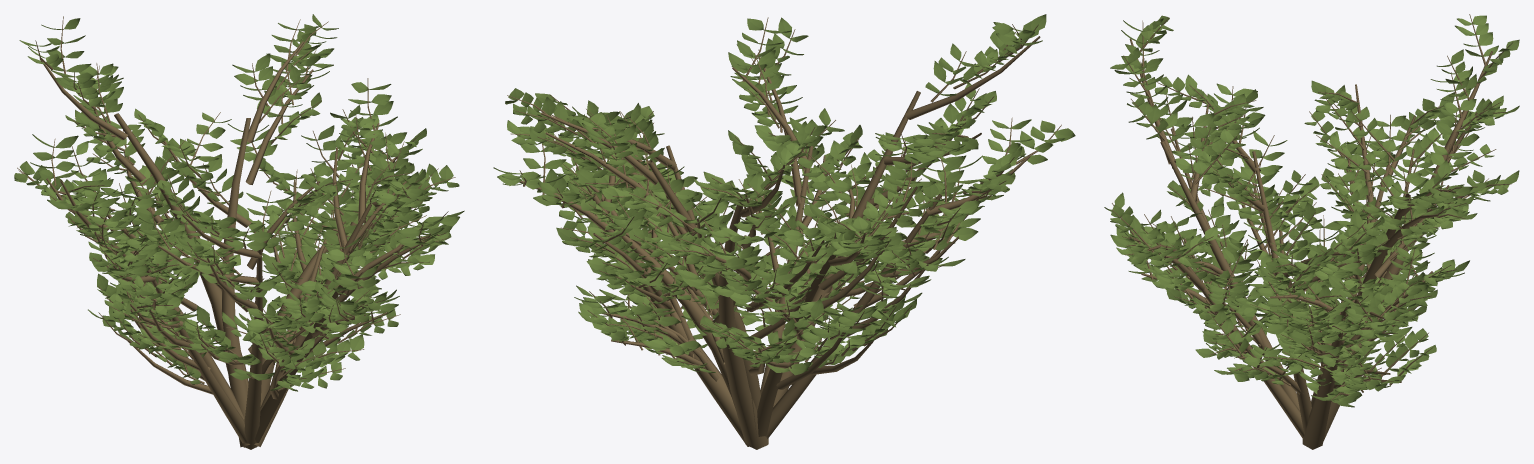
File: Lentisque_2_High.fbx
3 renders of one model, left to right at view 1: azimuth 30°, elevation 25°; view 2: azimuth 150°, elevation 25°; view 3: azimuth 270°, elevation 25°, orthographic. The views are drawn at different scales.
Parts seen in each view (by area): view 1: Lentisque_2_High; view 2: Lentisque_2_High; view 3: Lentisque_2_High.
Boxes of the visible parts, x1,y1,x2,y2 form: Lentisque_2_High: (14,14,464,449); Lentisque_2_High: (493,14,1075,449); Lentisque_2_High: (1104,14,1519,449).
Size of the model in its own units: 200 by 178 by 182.
